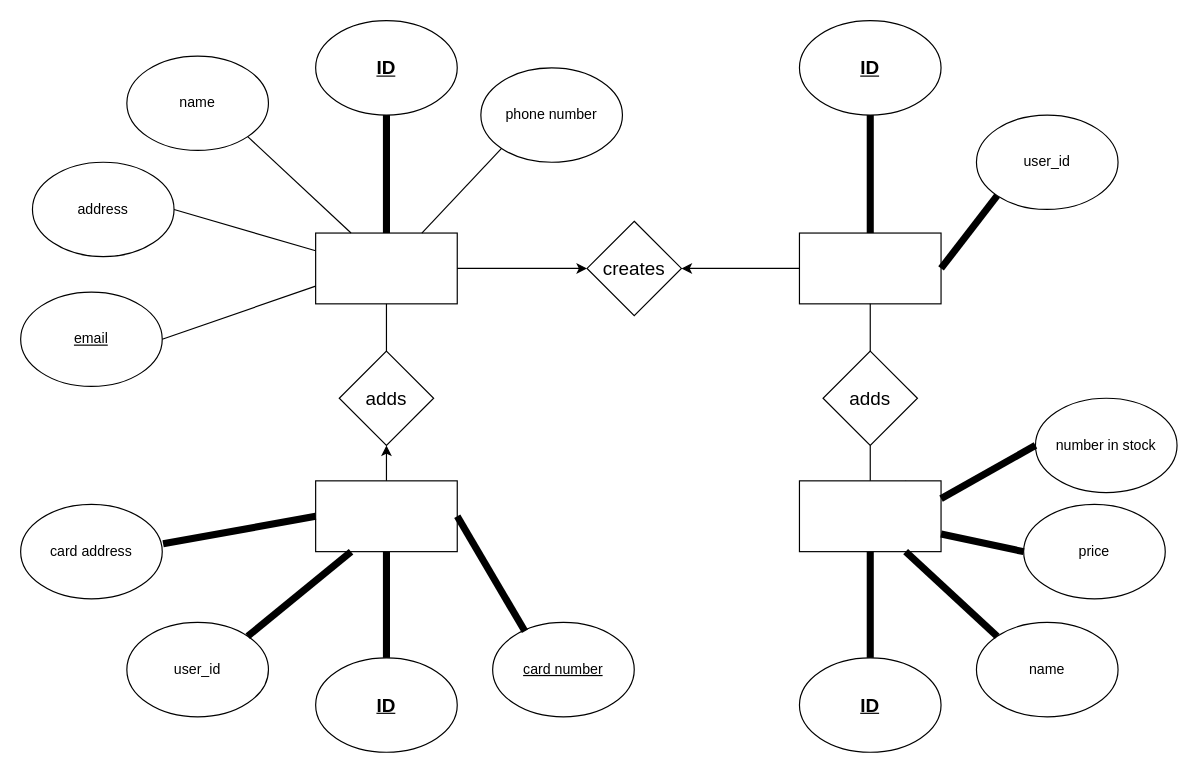
The diagram is 1198 pixels wide and 773 high, and some of its shapes have lost their labels. Here are the shapes that lost their labels. From the top down, the box of each, then its label:
(314, 232, 457, 304): User
(798, 232, 941, 304): Cart
(314, 480, 457, 552): PayInformation
(798, 480, 941, 552): Product
